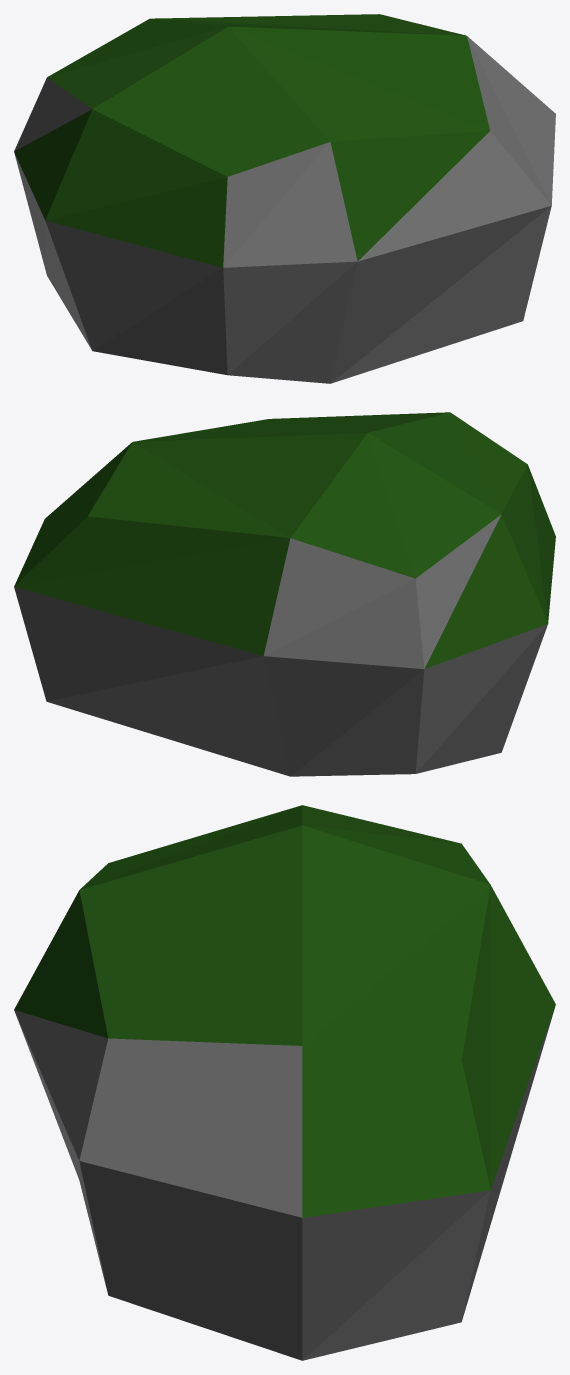
Rendered from Stone2_4.fbx.
The picture shows the model from 3 angles, top to bottom: view 1: azimuth 30°, elevation 25°; view 2: azimuth 150°, elevation 25°; view 3: azimuth 270°, elevation 25°; orthographic projection. The views are drawn at different scales.
Parts seen in each view (by area): view 1: Stone2_4; view 2: Stone2_4; view 3: Stone2_4.
Part boxes in pixels (bbox=[...]): Stone2_4: bbox=[14, 14, 555, 383]; Stone2_4: bbox=[14, 412, 555, 776]; Stone2_4: bbox=[14, 805, 555, 1360].
Size of the model in its own units: 64.49 by 37.33 by 49.4.
